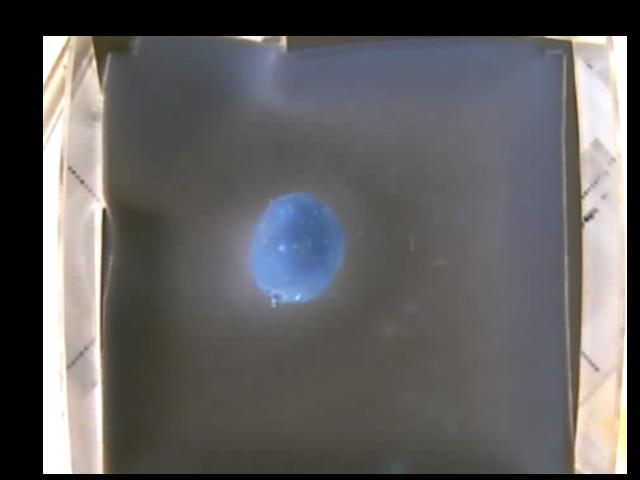Potato: (251, 195, 345, 307)
